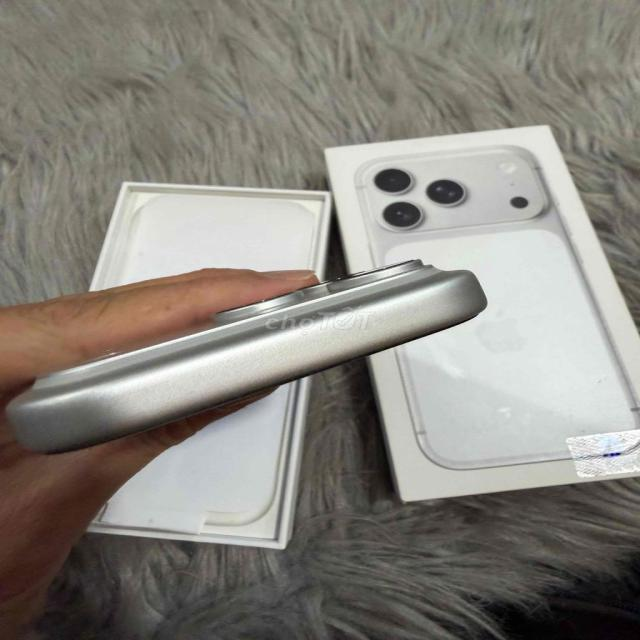gen_17: (8, 259, 486, 453), (7, 259, 485, 453)
